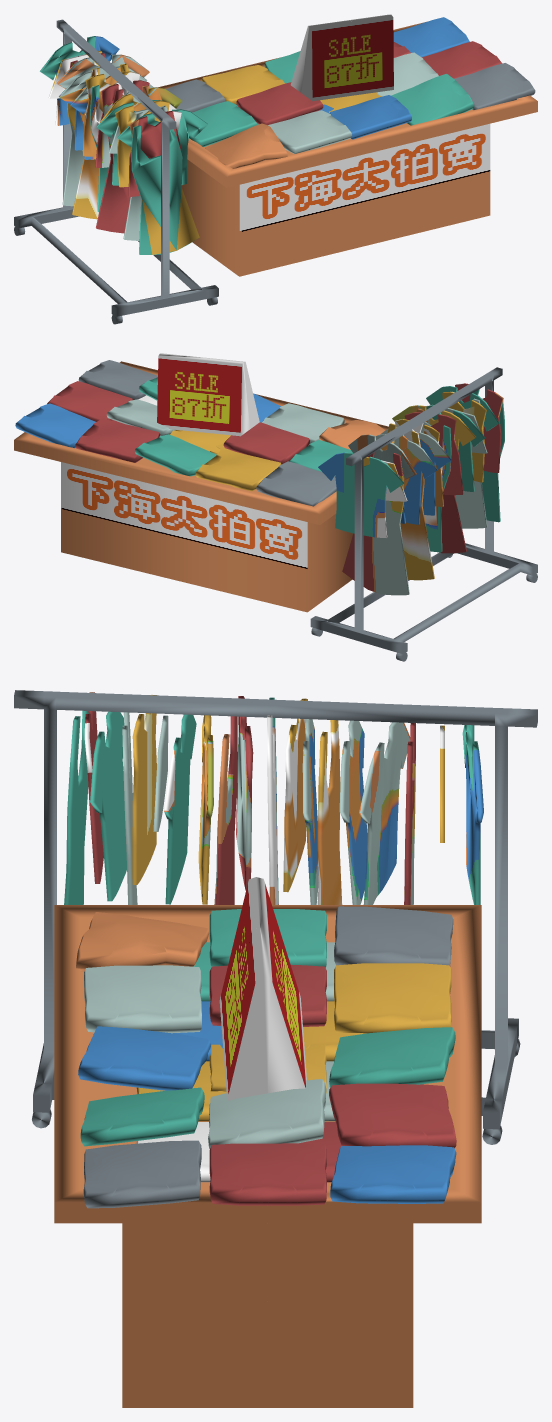
File: shahai.FBX
3 renders of one model, top to bottom at view 1: azimuth 30°, elevation 25°; view 2: azimuth 150°, elevation 25°; view 3: azimuth 270°, elevation 25°, orthographic. The views are drawn at different scales.
Visible parts, largest first — view 1: Box001; view 2: Box001; view 3: Box001.
Part boxes in pixels (x1,y1,x2,y2): Box001: (14, 14, 537, 324); Box001: (14, 353, 537, 661); Box001: (14, 690, 537, 1407).
Size of the model in its own units: 61.19 by 27.28 by 32.89.
1 material, 1 textured.
